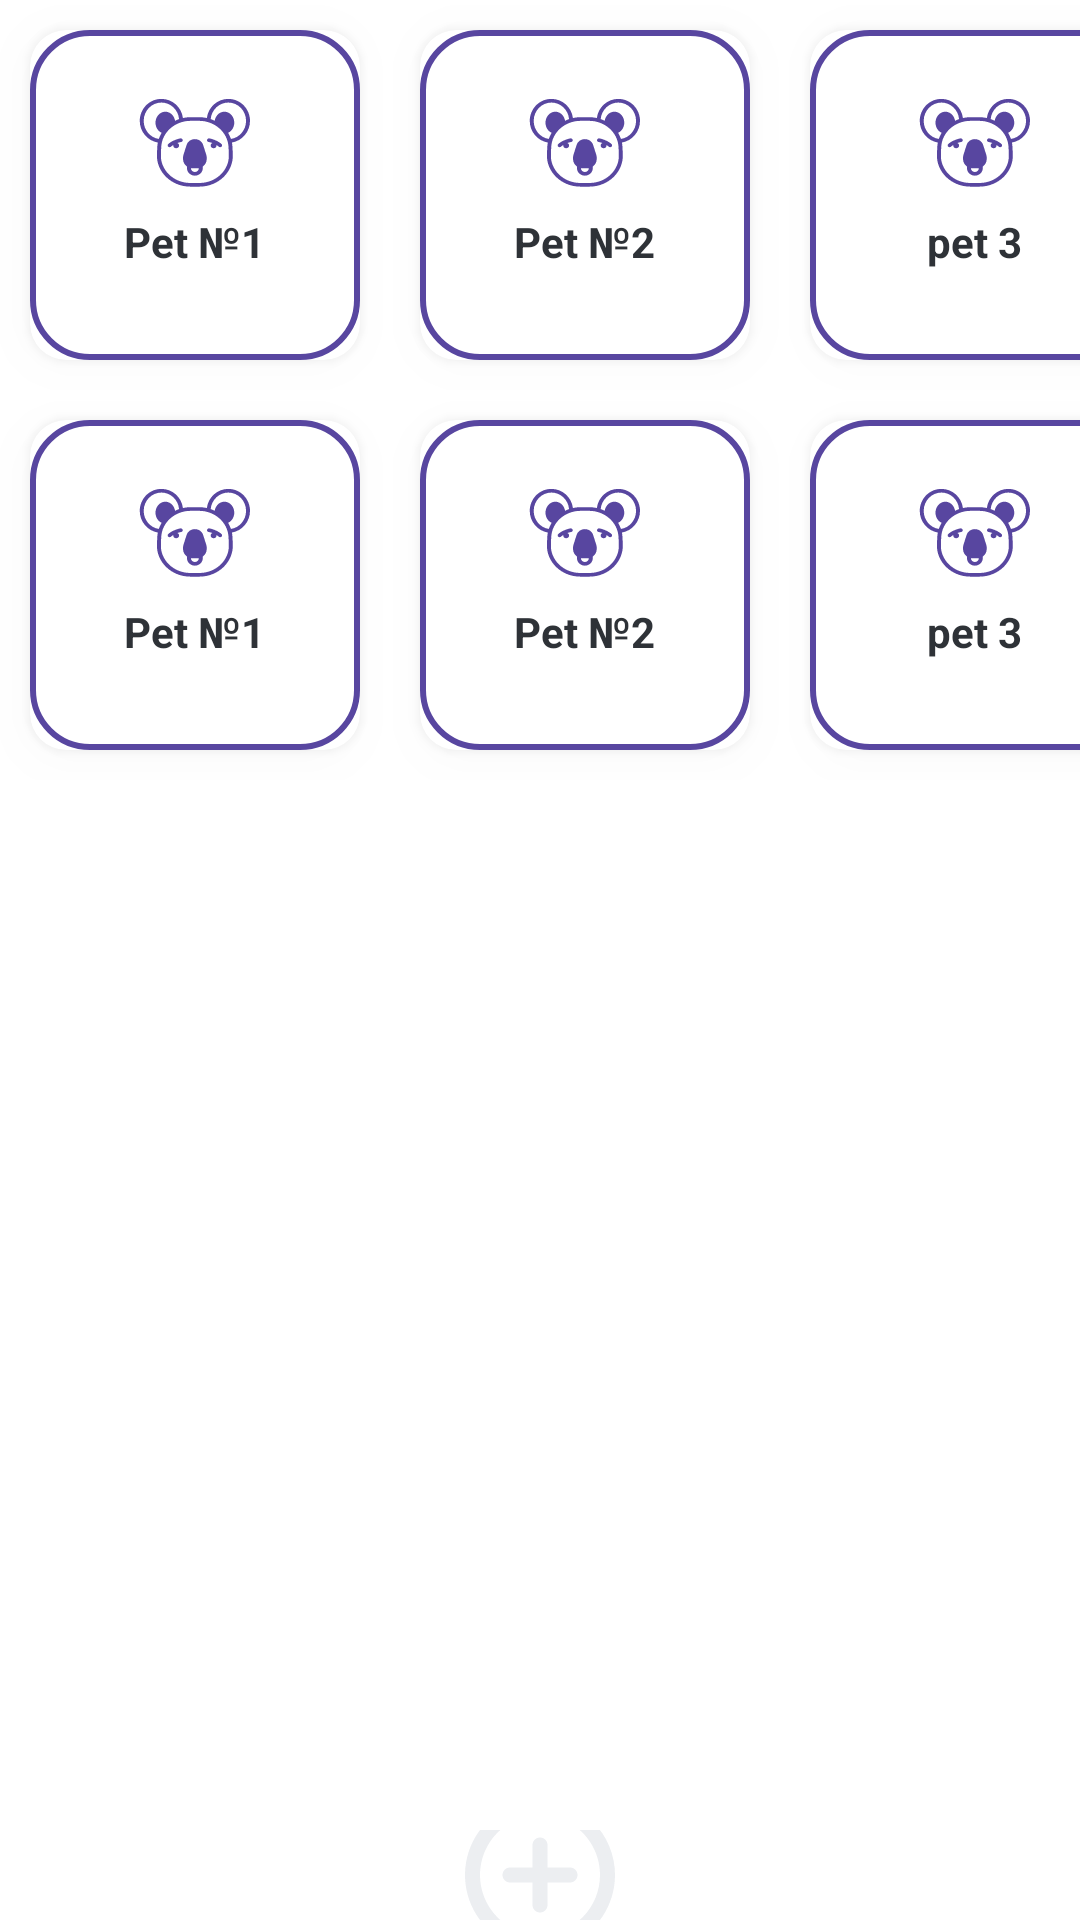

Named icons in this screenshot (1080w x 1920h) and their bounding boxes, (x1, y1, x2, y2):
koala: (139, 99, 250, 187), (529, 99, 640, 187), (919, 99, 1030, 187), (139, 489, 250, 577), (529, 489, 640, 577), (919, 489, 1030, 577)
